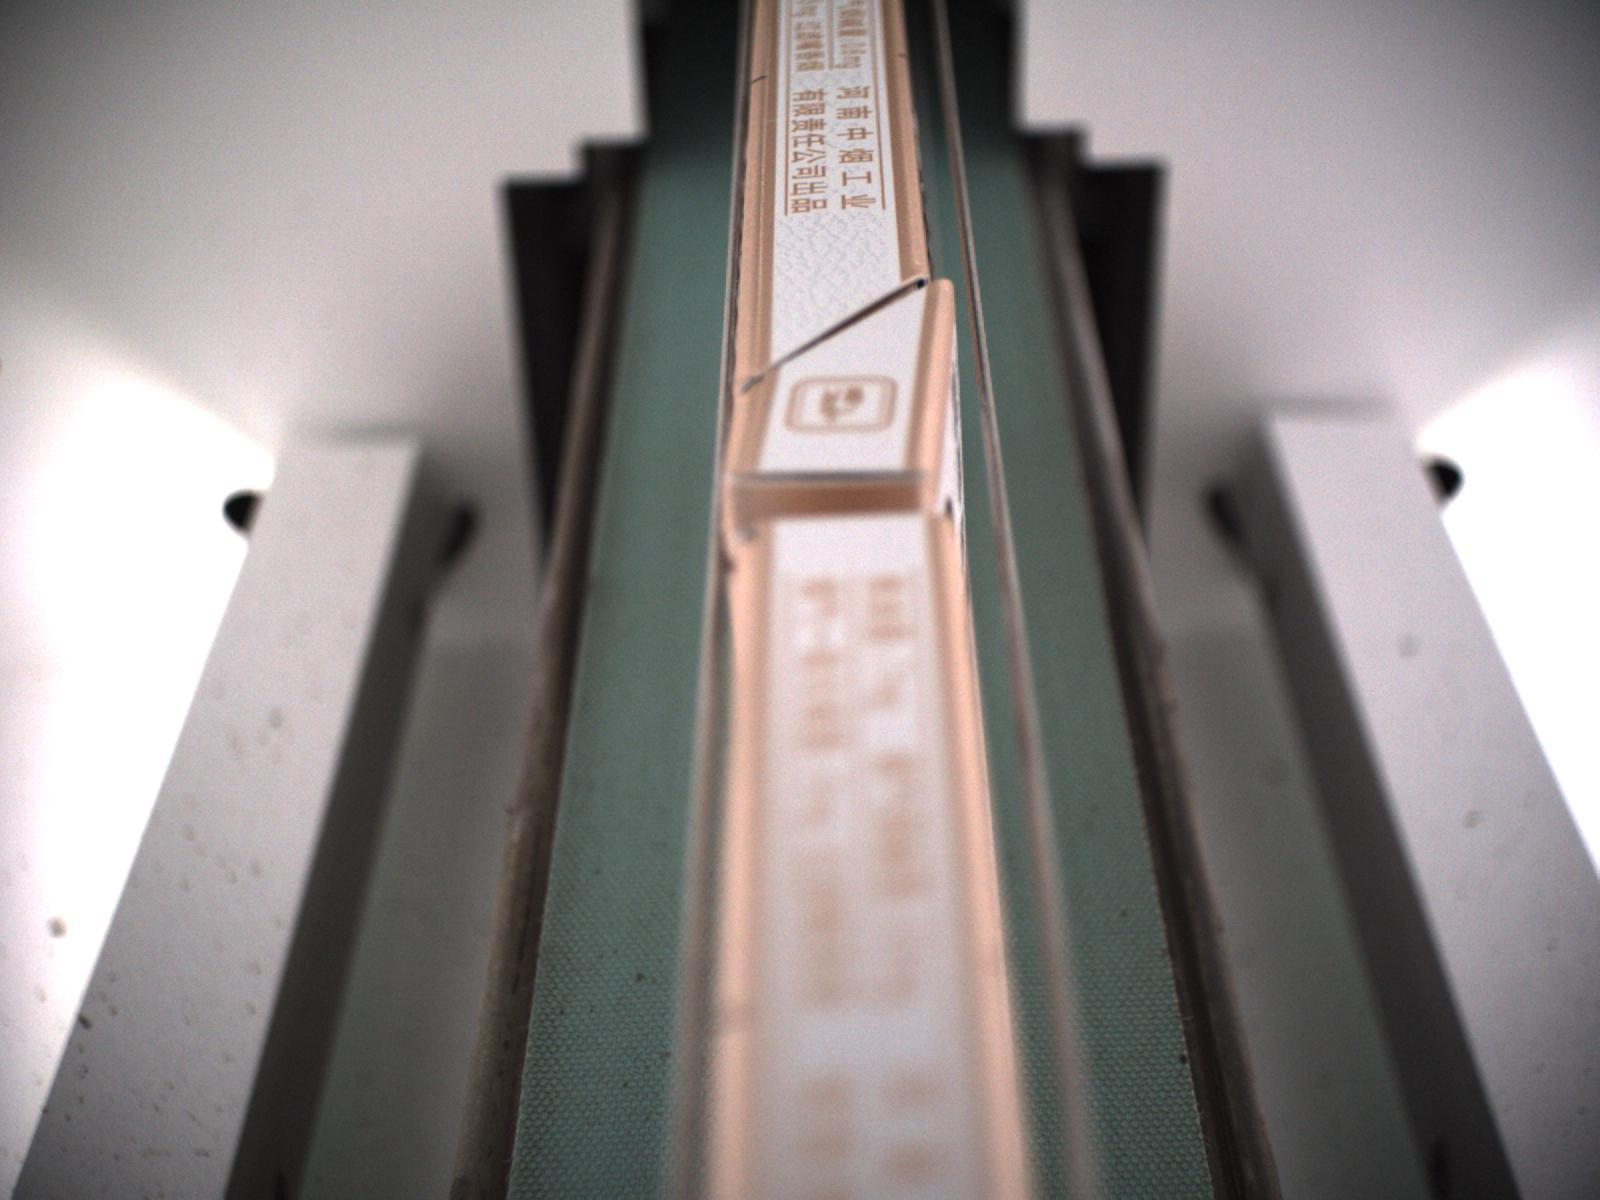bottomUpwarp_upper_1: (724, 263, 959, 418)
